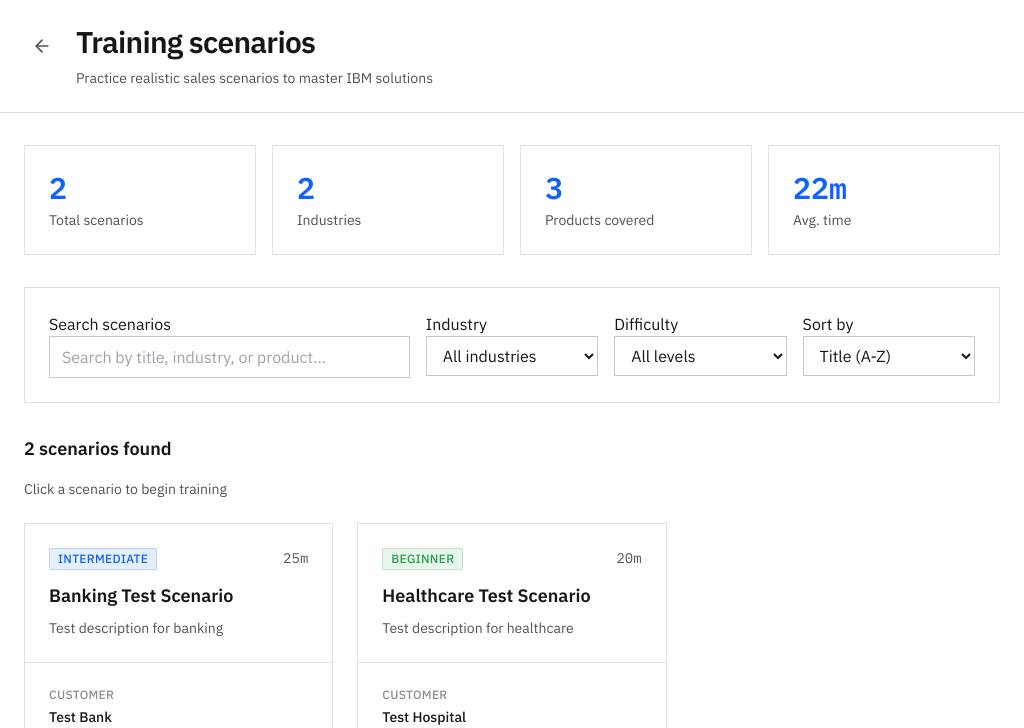
Test case: ScenarioLibraryPage › Search Functionality › should clear search when clicking clear button
Type "healthcare" into the field with placeholder "Search by title, industry, or product..." at point(229, 357), box 49,336 -> 410,378
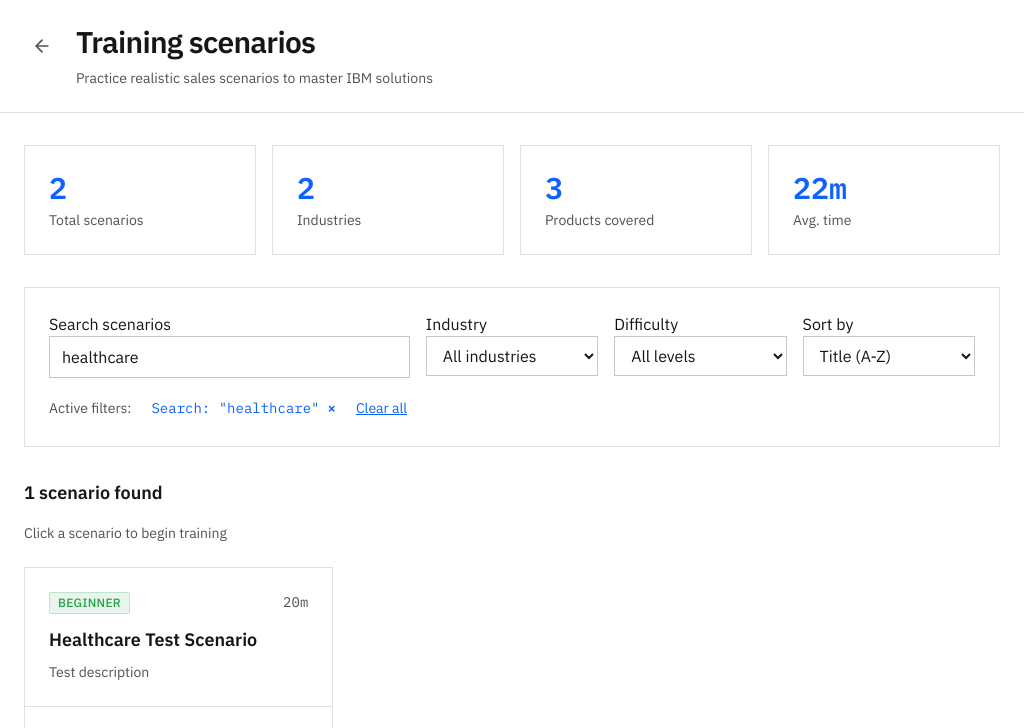
Click the button "Clear all" at point(381, 408), box 356,398 -> 407,418
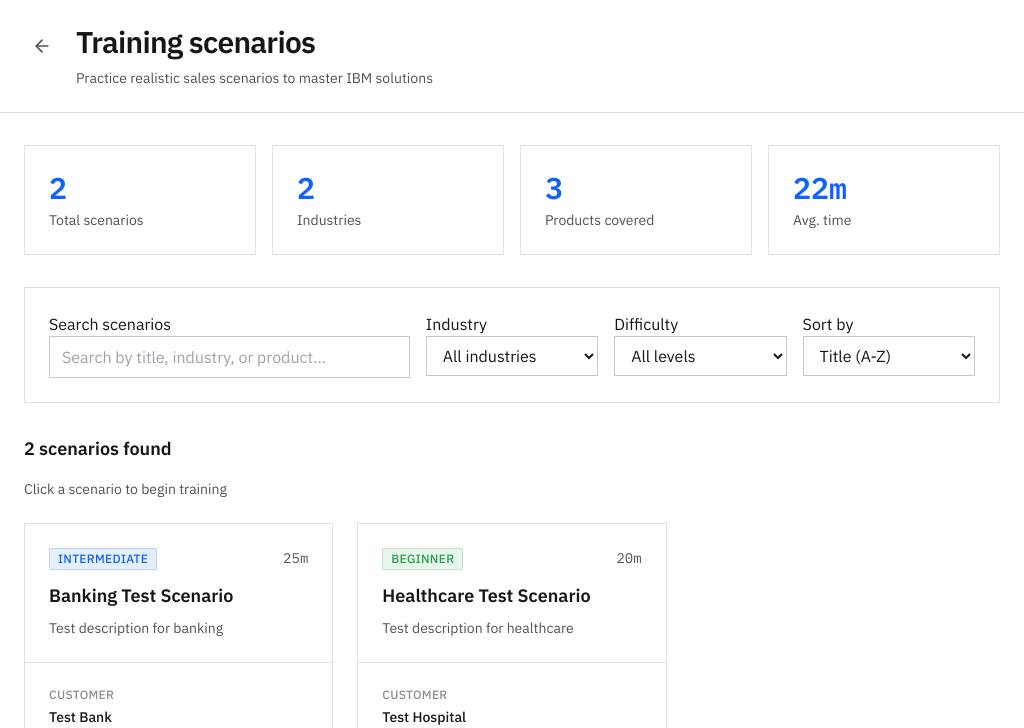
expect the field with placeholder "Search by title, industry, or product..." is empty: met, box 49,336 -> 410,378
